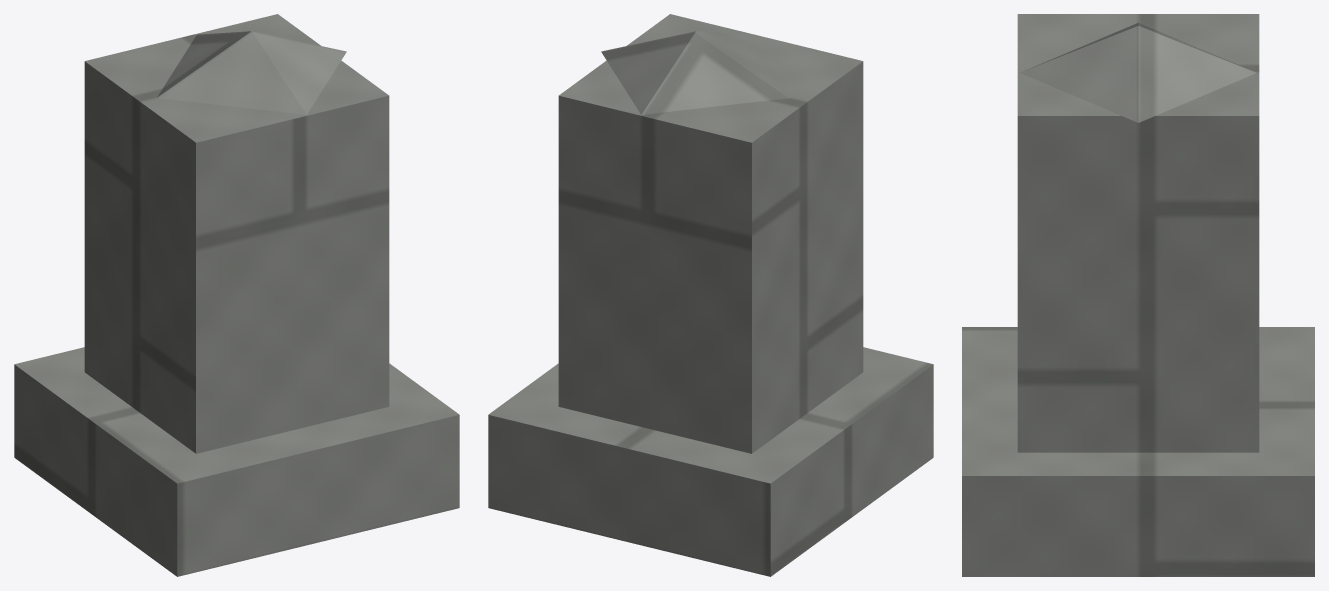
File: pillar_broken.obj
3 views of the same model, side by side, from view 1: azimuth 30°, elevation 25°; view 2: azimuth 150°, elevation 25°; view 3: azimuth 270°, elevation 25° (orthographic). The views are drawn at different scales.
Visible parts, largest first — view 1: pillar_broken; view 2: pillar_broken; view 3: pillar_broken.
Boxes of the visible parts, box(x1,y1,x2,y2) form: pillar_broken: box(14, 14, 459, 576); pillar_broken: box(488, 14, 933, 576); pillar_broken: box(962, 14, 1314, 576).
Size of the model in its own units: 0.95 by 1.44 by 0.95.
Materials: 1 (1 with a texture image).
